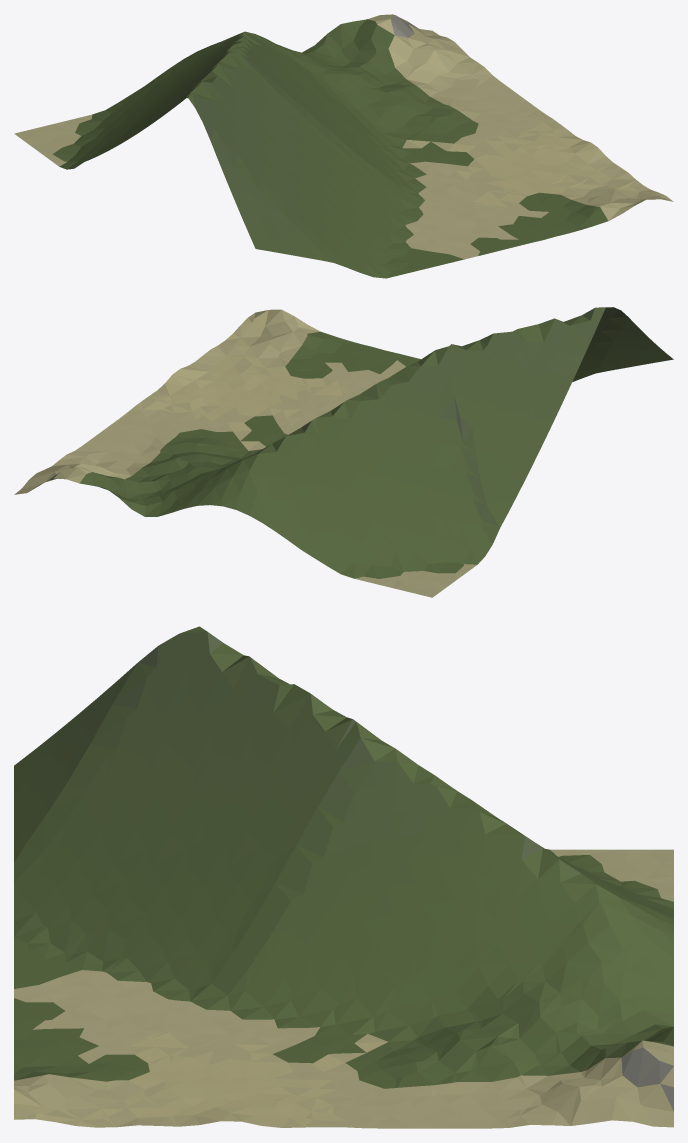
File: Ground_-2_-5.glb
3 renders of one model, top to bottom at view 1: azimuth 30°, elevation 25°; view 2: azimuth 150°, elevation 25°; view 3: azimuth 270°, elevation 25°, orthographic. The views are drawn at different scales.
Parts seen in each view (by area): view 1: Ground_-2_-5; view 2: Ground_-2_-5; view 3: Ground_-2_-5.
Boxes of the visible parts, left/top/right/bottom form: Ground_-2_-5: left=14, top=14, right=673, bottom=278; Ground_-2_-5: left=14, top=307, right=673, bottom=597; Ground_-2_-5: left=14, top=626, right=673, bottom=1128.
Size of the model in its own units: 768 by 287 by 768.
